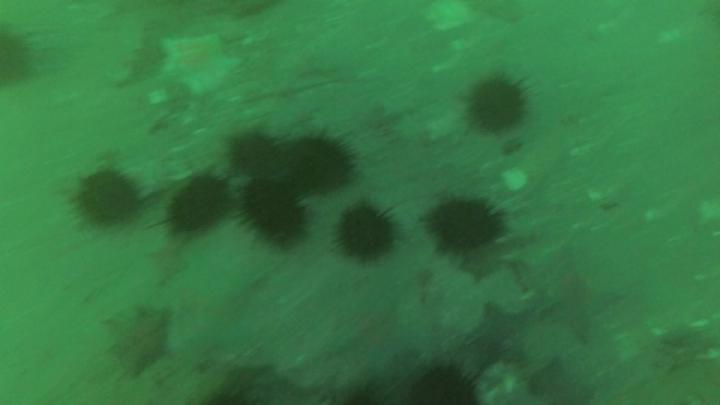echinus: (415, 191, 511, 266), (283, 123, 362, 202), (64, 159, 145, 233), (329, 194, 405, 272), (240, 176, 314, 256), (458, 66, 535, 142), (162, 170, 234, 242), (223, 123, 288, 186), (403, 357, 488, 405), (1, 15, 43, 100)
starfish: (513, 243, 626, 356), (154, 31, 239, 96), (104, 305, 173, 381), (469, 301, 535, 377), (517, 359, 598, 405), (146, 237, 194, 289), (462, 245, 510, 284)
